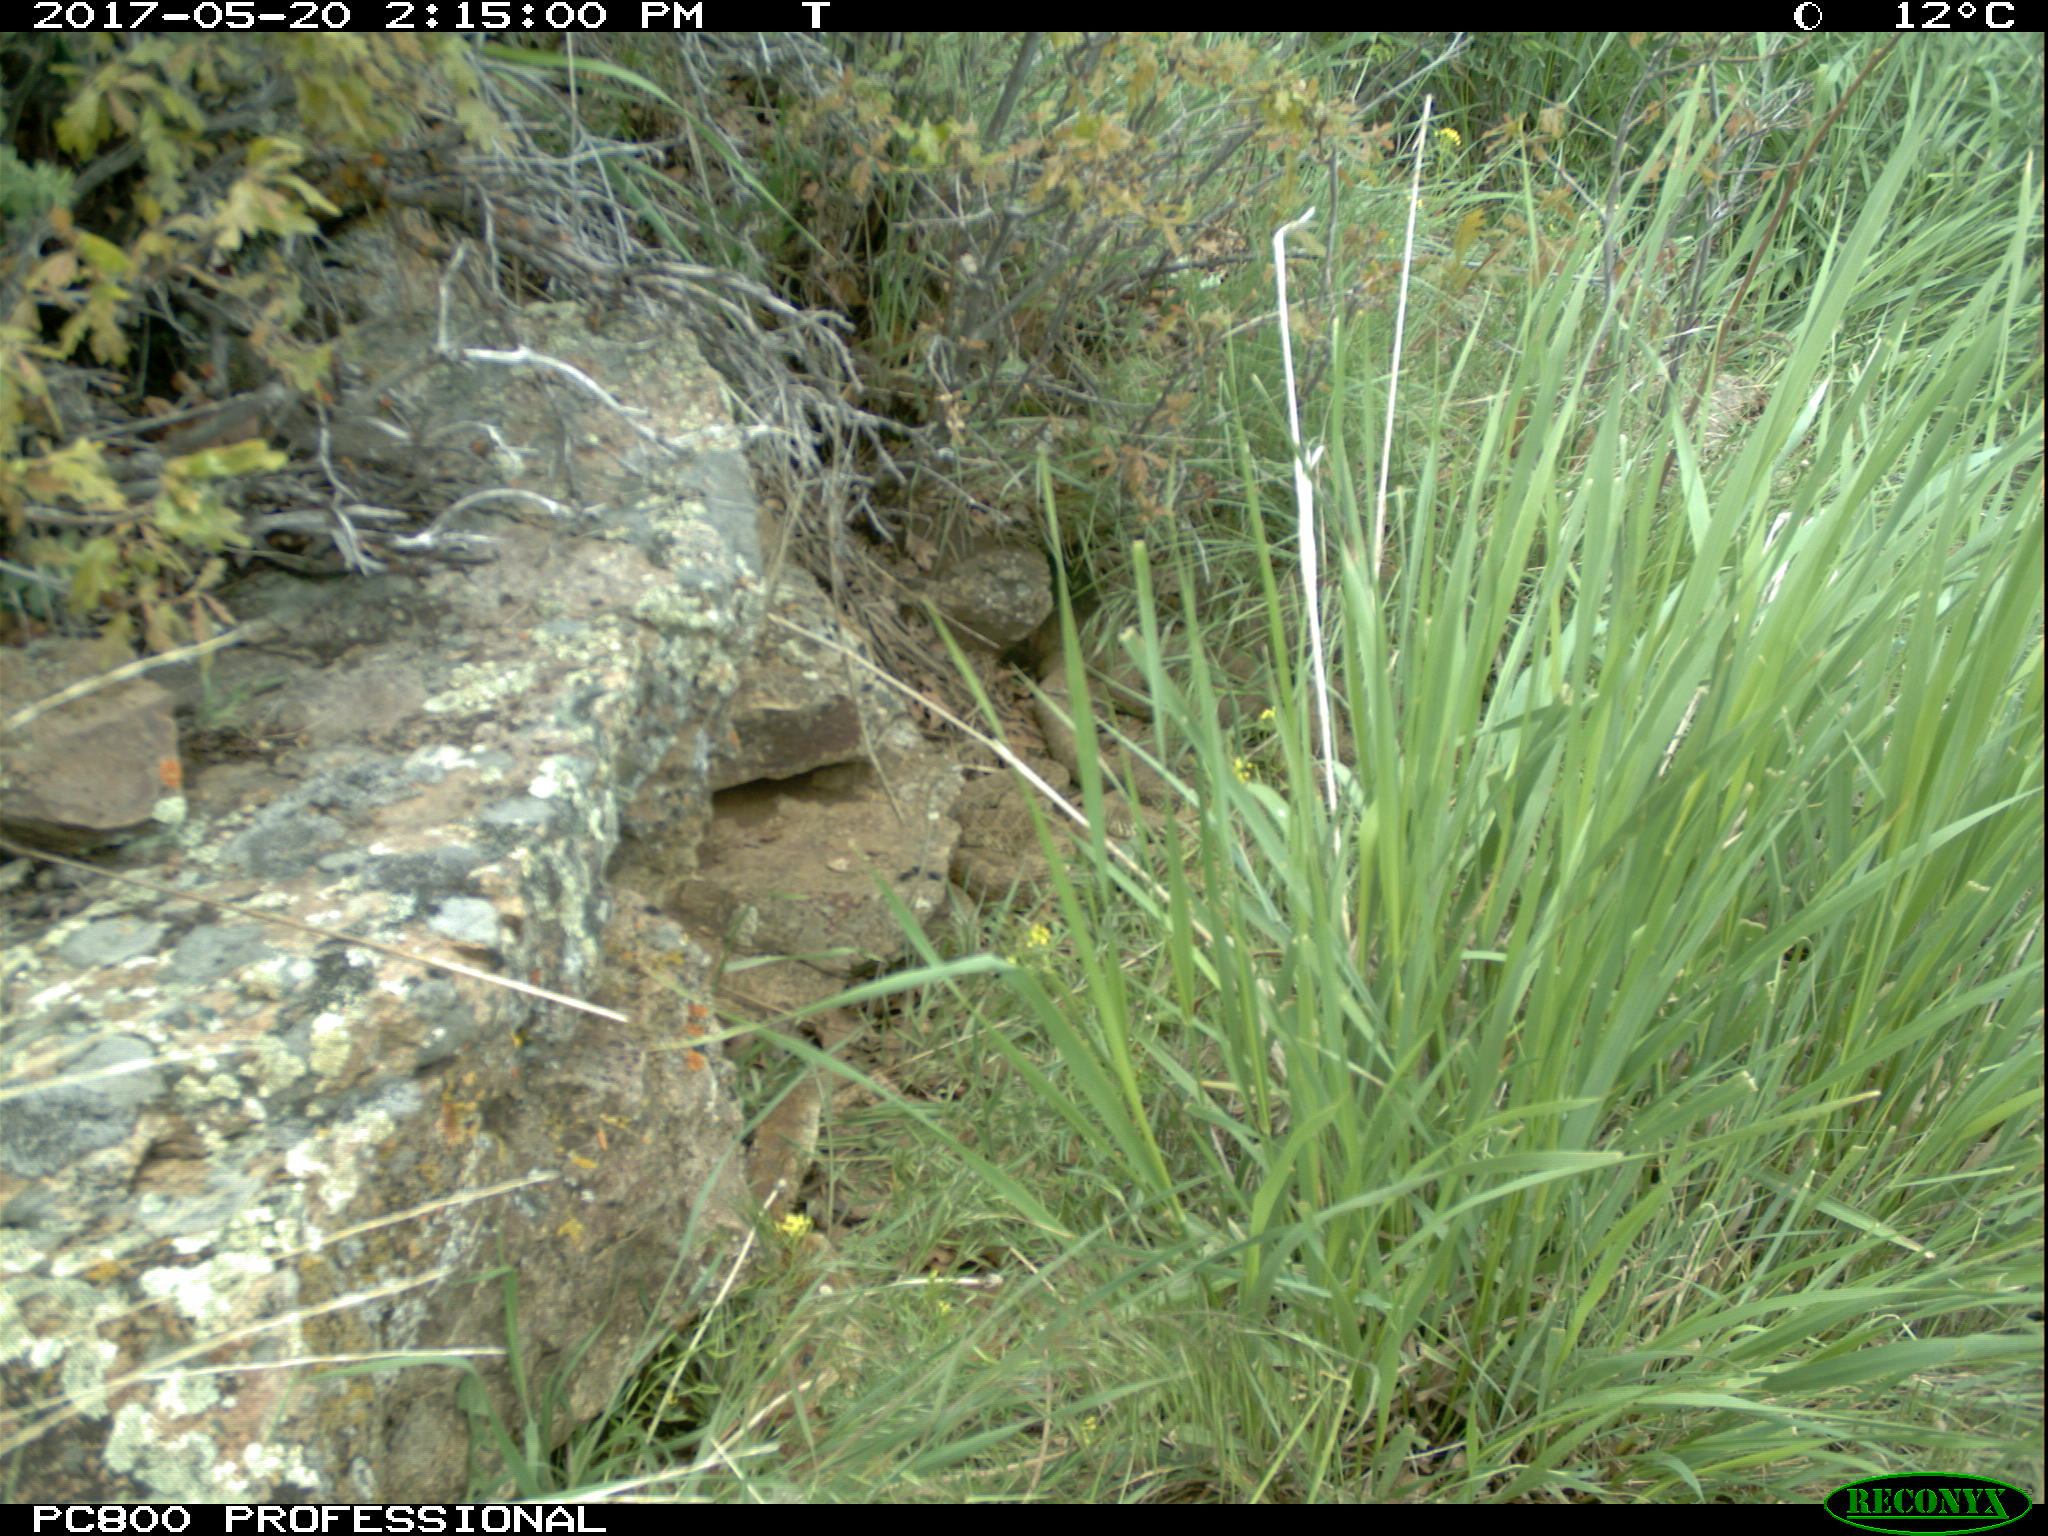snake: (747, 1062, 853, 1409), (1032, 636, 1300, 765), (947, 760, 1072, 918)
